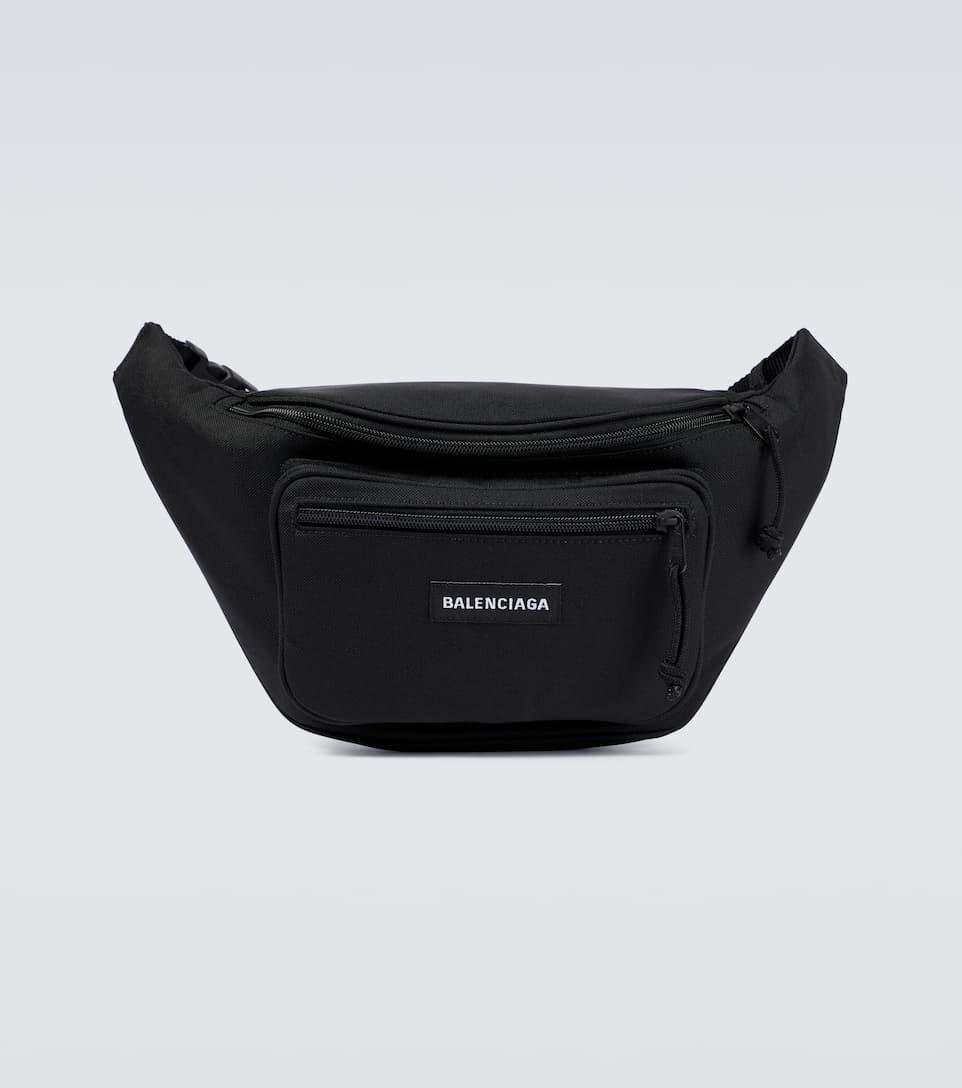BALENCIAGA: (444, 596, 549, 611)
